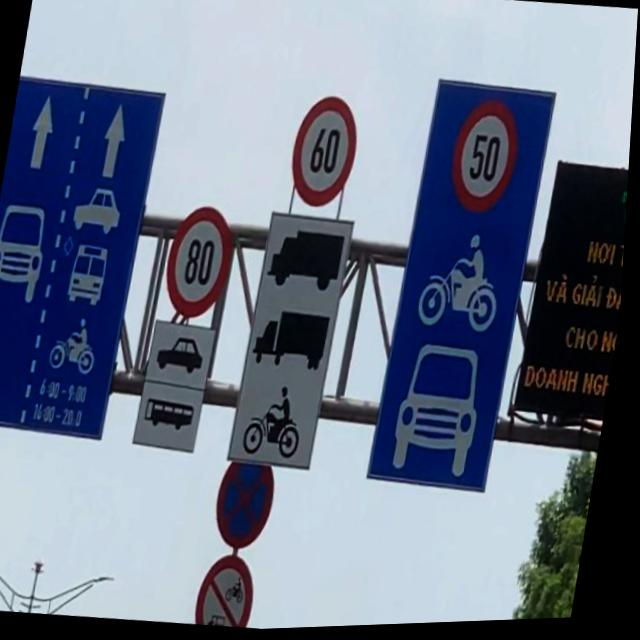Cam dung xe va do xe: (215, 449, 287, 555)
Toc do toi da cho phep: (446, 100, 527, 222), (286, 93, 367, 214), (162, 204, 241, 323)
